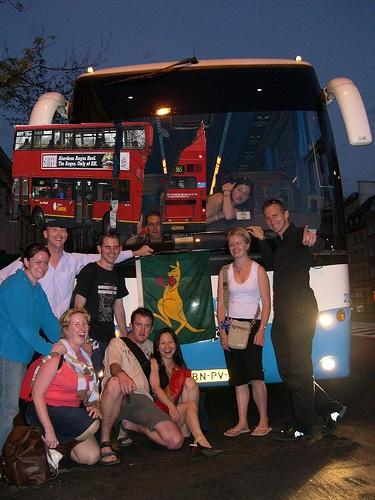tampered: (11, 121, 206, 235)
